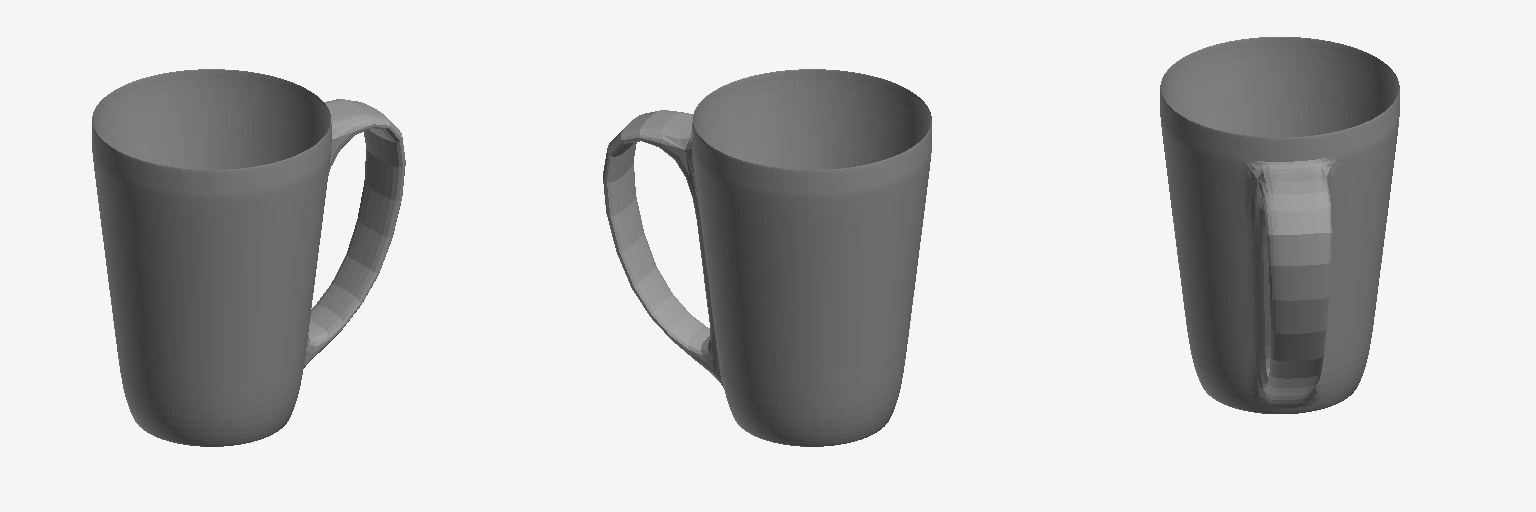
Rendered from cup.obj.
3 views of the same model, side by side, from view 1: azimuth 30°, elevation 25°; view 2: azimuth 150°, elevation 25°; view 3: azimuth 270°, elevation 25° (orthographic).
Visible parts, largest first — view 1: Mug-pink_Circle.005; view 2: Mug-pink_Circle.005; view 3: Mug-pink_Circle.005.
Part boxes in pixels (x1,y1,x2,y2): Mug-pink_Circle.005: (92, 69, 405, 446); Mug-pink_Circle.005: (603, 69, 931, 446); Mug-pink_Circle.005: (1160, 37, 1399, 413).
Bounding box in the file's own units: 2.49 × 2.37 × 1.75.